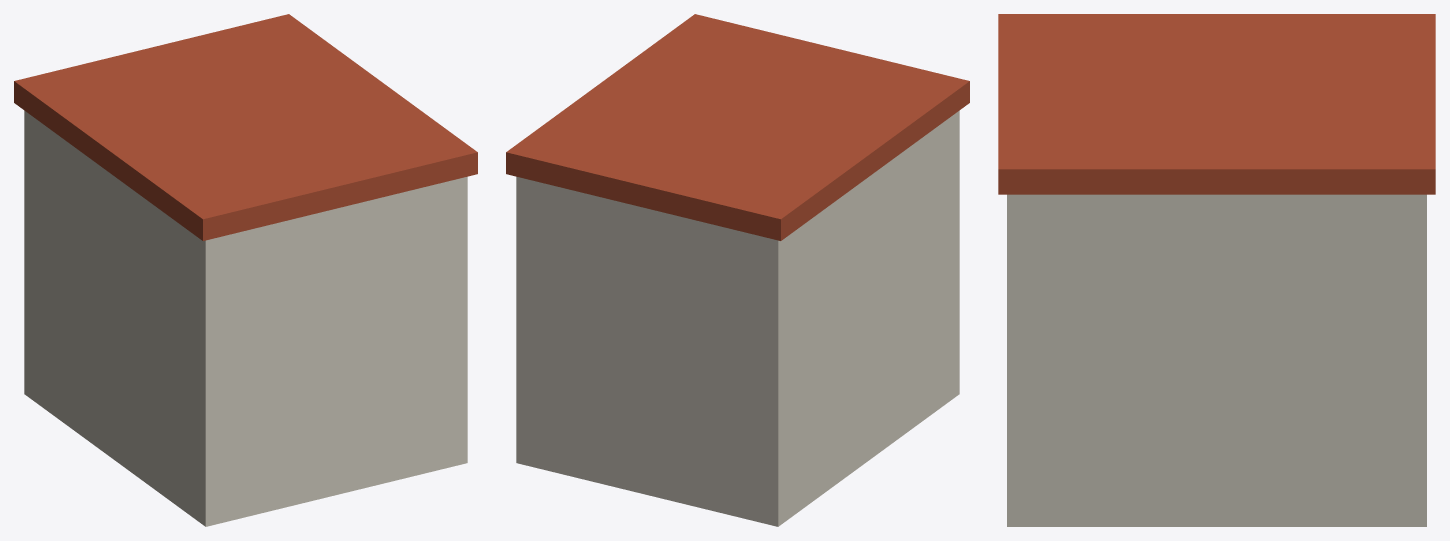
The model's file is CoastalHouse1.fbx.
The picture shows the model from 3 angles, left to right: view 1: azimuth 30°, elevation 25°; view 2: azimuth 150°, elevation 25°; view 3: azimuth 270°, elevation 25°; orthographic projection. The views are drawn at different scales.
Parts seen in each view (by area): view 1: CoastalHouse1Mesh; view 2: CoastalHouse1Mesh; view 3: CoastalHouse1Mesh.
Part boxes in pixels (x1=…): CoastalHouse1Mesh: x1=14, y1=14, x2=477, y2=526; CoastalHouse1Mesh: x1=506, y1=14, x2=969, y2=526; CoastalHouse1Mesh: x1=998, y1=14, x2=1435, y2=526.
Size of the model in its own units: 7.9 by 8.56 by 9.4.
